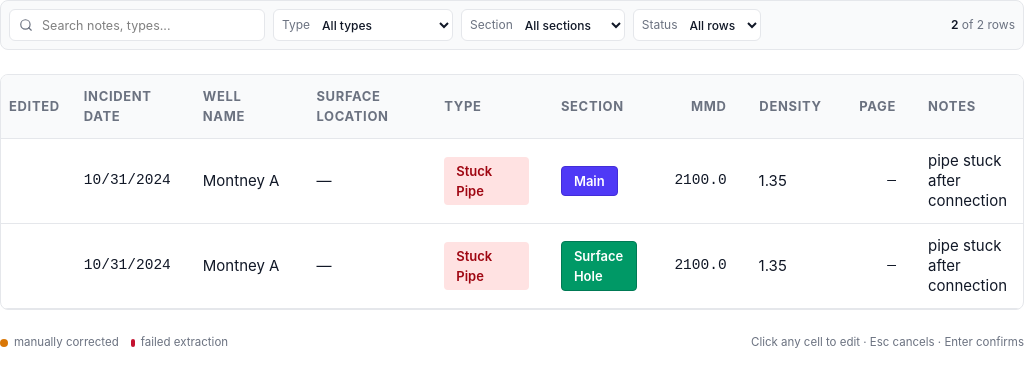
Test case: OccurrenceTable › filters rows by section dropdown
Select "Surface Hole" in the dropdown named "Filter by section" at (572, 25), box 521,12 -> 624,38
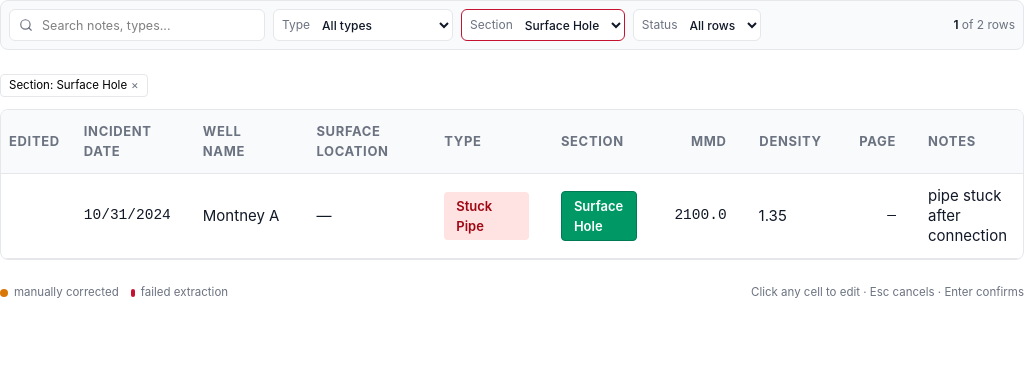
expect the text labelled "Surface Hole" is shown: met, box 561,191 -> 637,241
expect the text labelled "Main" is gone: met
